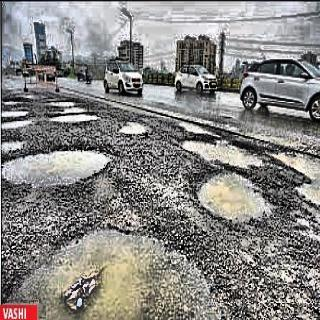pothole: (0, 213, 277, 320), (170, 113, 320, 241), (1, 92, 114, 200)
